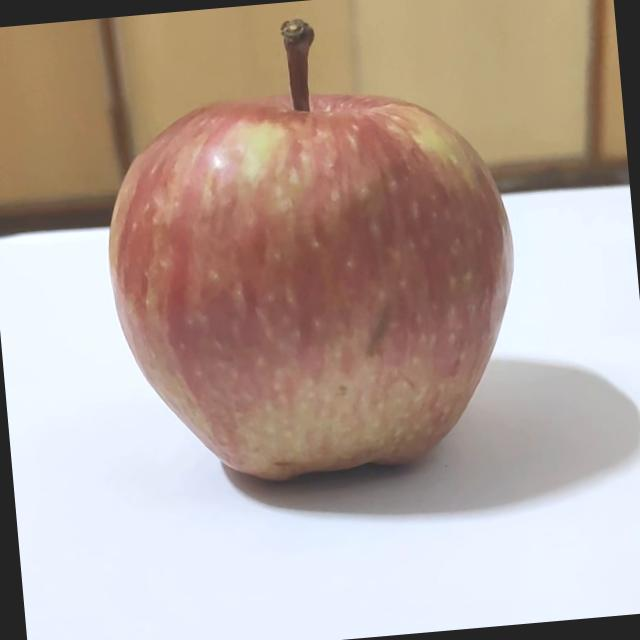apple: (85, 0, 535, 497)
